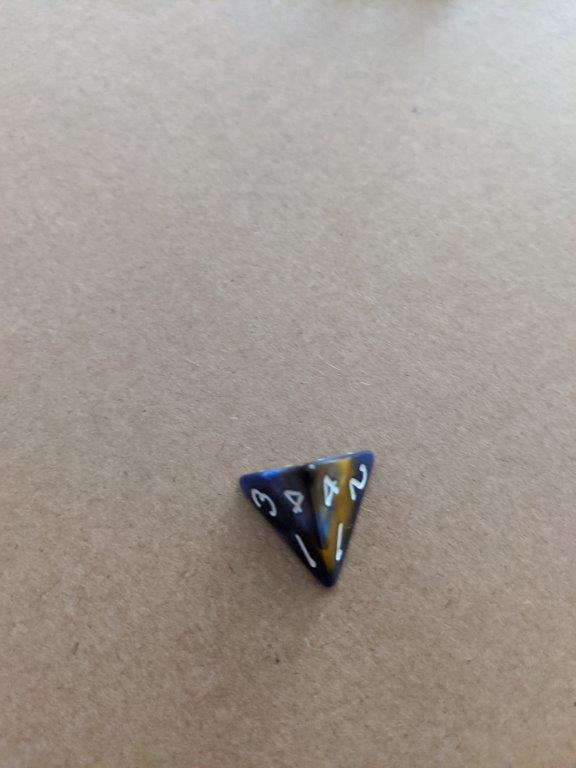d4-4: (240, 448, 378, 590)
